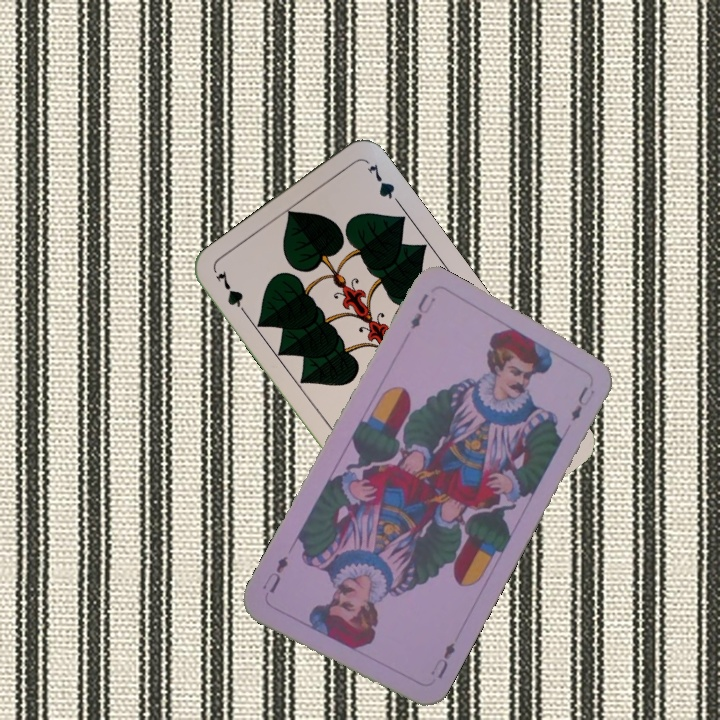EU: (406, 289, 439, 332), (428, 638, 458, 682)
G7: (211, 267, 252, 321)
